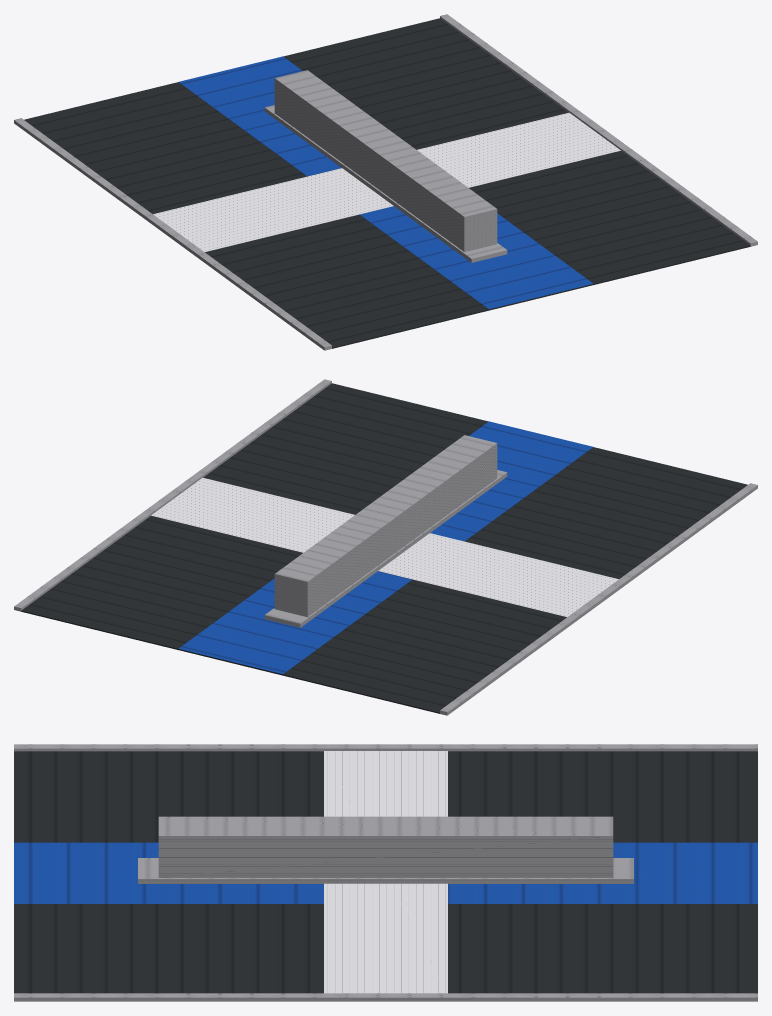
3 renders of one model, top to bottom at view 1: azimuth 30°, elevation 25°; view 2: azimuth 150°, elevation 25°; view 3: azimuth 270°, elevation 25°, orthographic. The views are drawn at different scales.
Parts seen in each view (by area): view 1: node_component_11110_04_03188_001_01_asphalt_lanes, node_component_11110_04_03188_001_02_brt_bus_lanes, node_component_11110_04_03188_001_03_crosswalk_curbs; view 2: node_component_11110_04_03188_001_01_asphalt_lanes, node_component_11110_04_03188_001_02_brt_bus_lanes, node_component_11110_04_03188_001_03_crosswalk_curbs; view 3: node_component_11110_04_03188_001_01_asphalt_lanes, node_component_11110_04_03188_001_02_brt_bus_lanes, node_component_11110_04_03188_001_03_crosswalk_curbs.
Part boxes in pixels (x1=…): node_component_11110_04_03188_001_01_asphalt_lanes: x1=14, y1=14, x2=757, y2=350; node_component_11110_04_03188_001_02_brt_bus_lanes: x1=179, y1=56, x2=593, y2=309; node_component_11110_04_03188_001_03_crosswalk_curbs: x1=153, y1=112, x2=620, y2=251; node_component_11110_04_03188_001_01_asphalt_lanes: x1=14, y1=379, x2=757, y2=715; node_component_11110_04_03188_001_02_brt_bus_lanes: x1=178, y1=421, x2=592, y2=674; node_component_11110_04_03188_001_03_crosswalk_curbs: x1=151, y1=477, x2=618, y2=616; node_component_11110_04_03188_001_01_asphalt_lanes: x1=14, y1=744, x2=757, y2=1001; node_component_11110_04_03188_001_02_brt_bus_lanes: x1=14, y1=816, x2=757, y2=903; node_component_11110_04_03188_001_03_crosswalk_curbs: x1=324, y1=751, x2=447, y2=993.
Size of the model in its own units: 29 by 2.6 by 36.
Materials: 4 (4 with a texture image).
